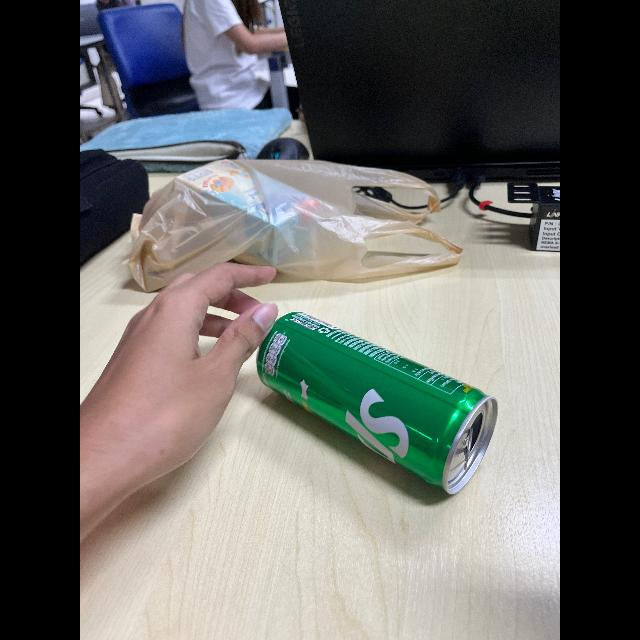can: (232, 304, 518, 492)
